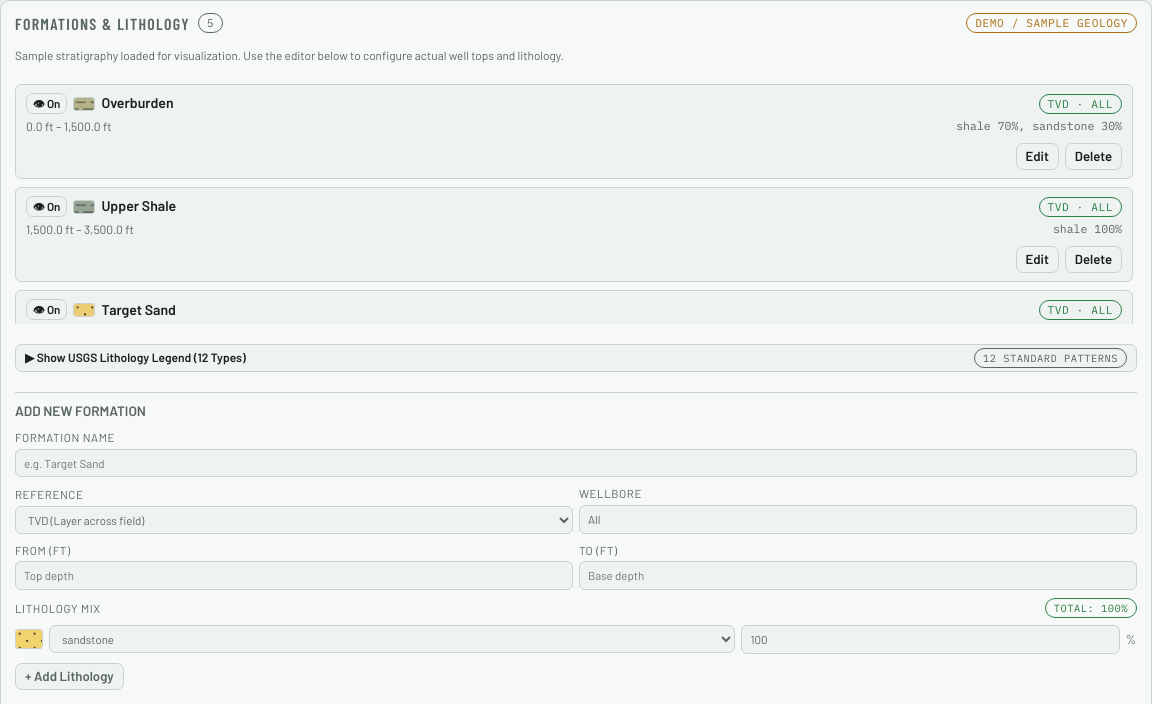
Test case: <FormationEditor> › editing and cancelling › cancels editing and clears the form when Cancel is clicked
Click the button with aria-label "edit overburden" at (1037,157), box [1016,143,1059,170]
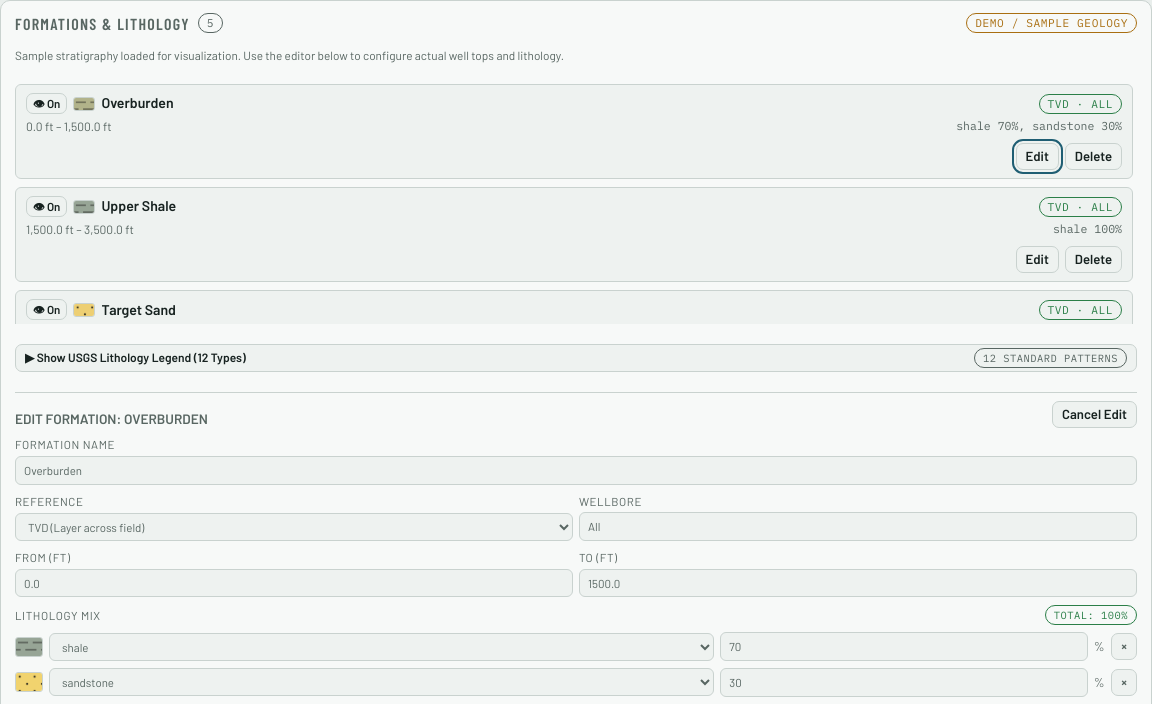
Expected: the button "Cancel Edit" is shown
Click the button "Cancel Edit" at (1095,415), box [1052,401,1137,428]
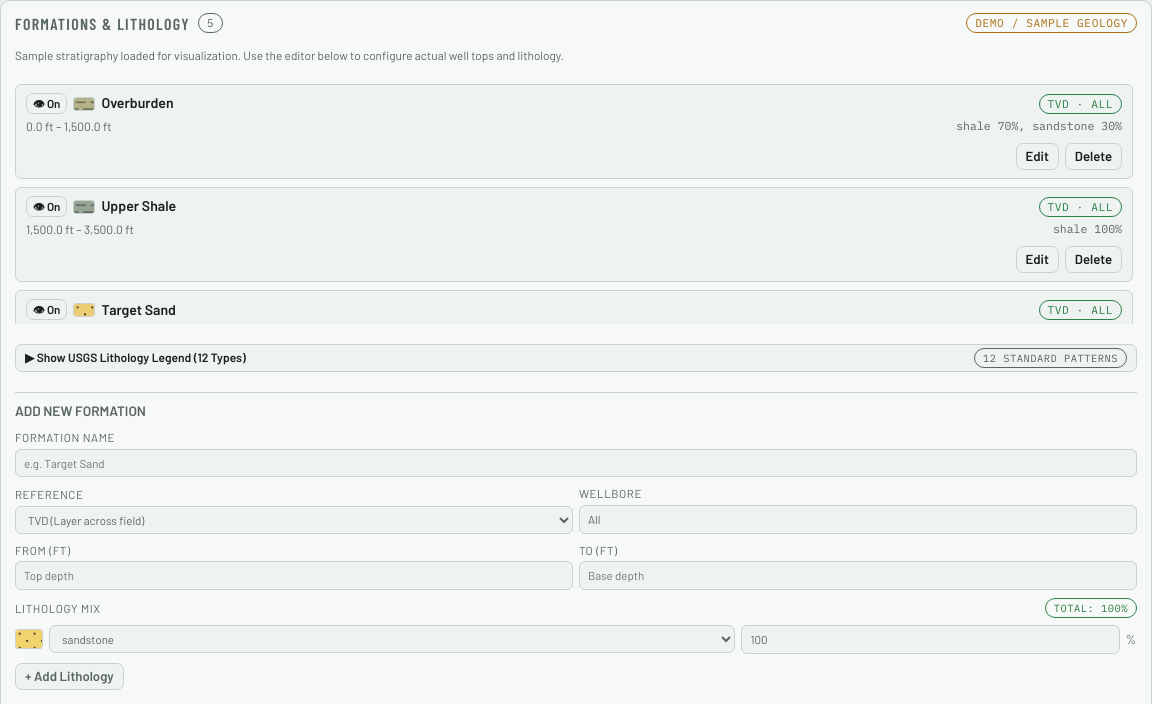
Expected: the button "Cancel Edit" is gone
Expected: the field labelled "Formation Name" is empty, [15,449,1137,477]
